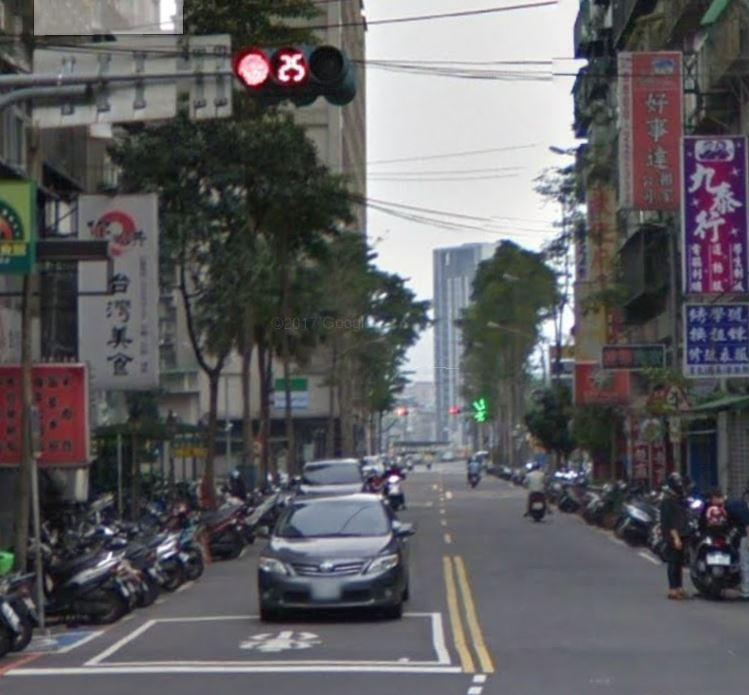red_traffic_light: (231, 46, 349, 88)
